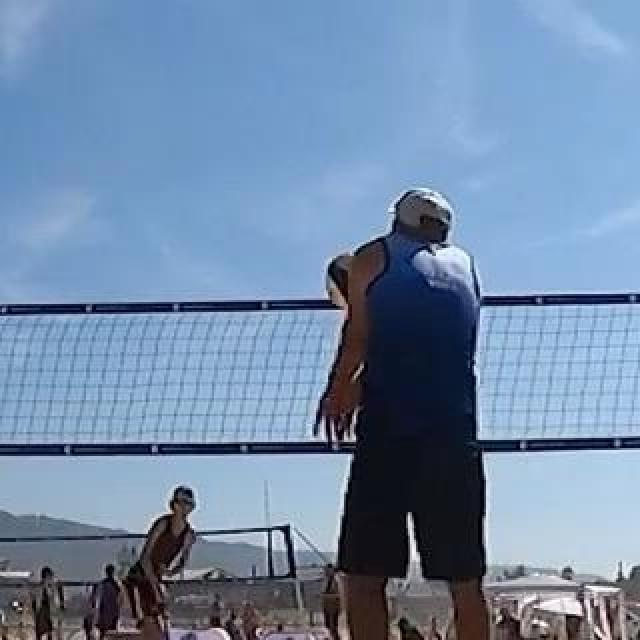volleyball: (326, 250, 382, 308)
